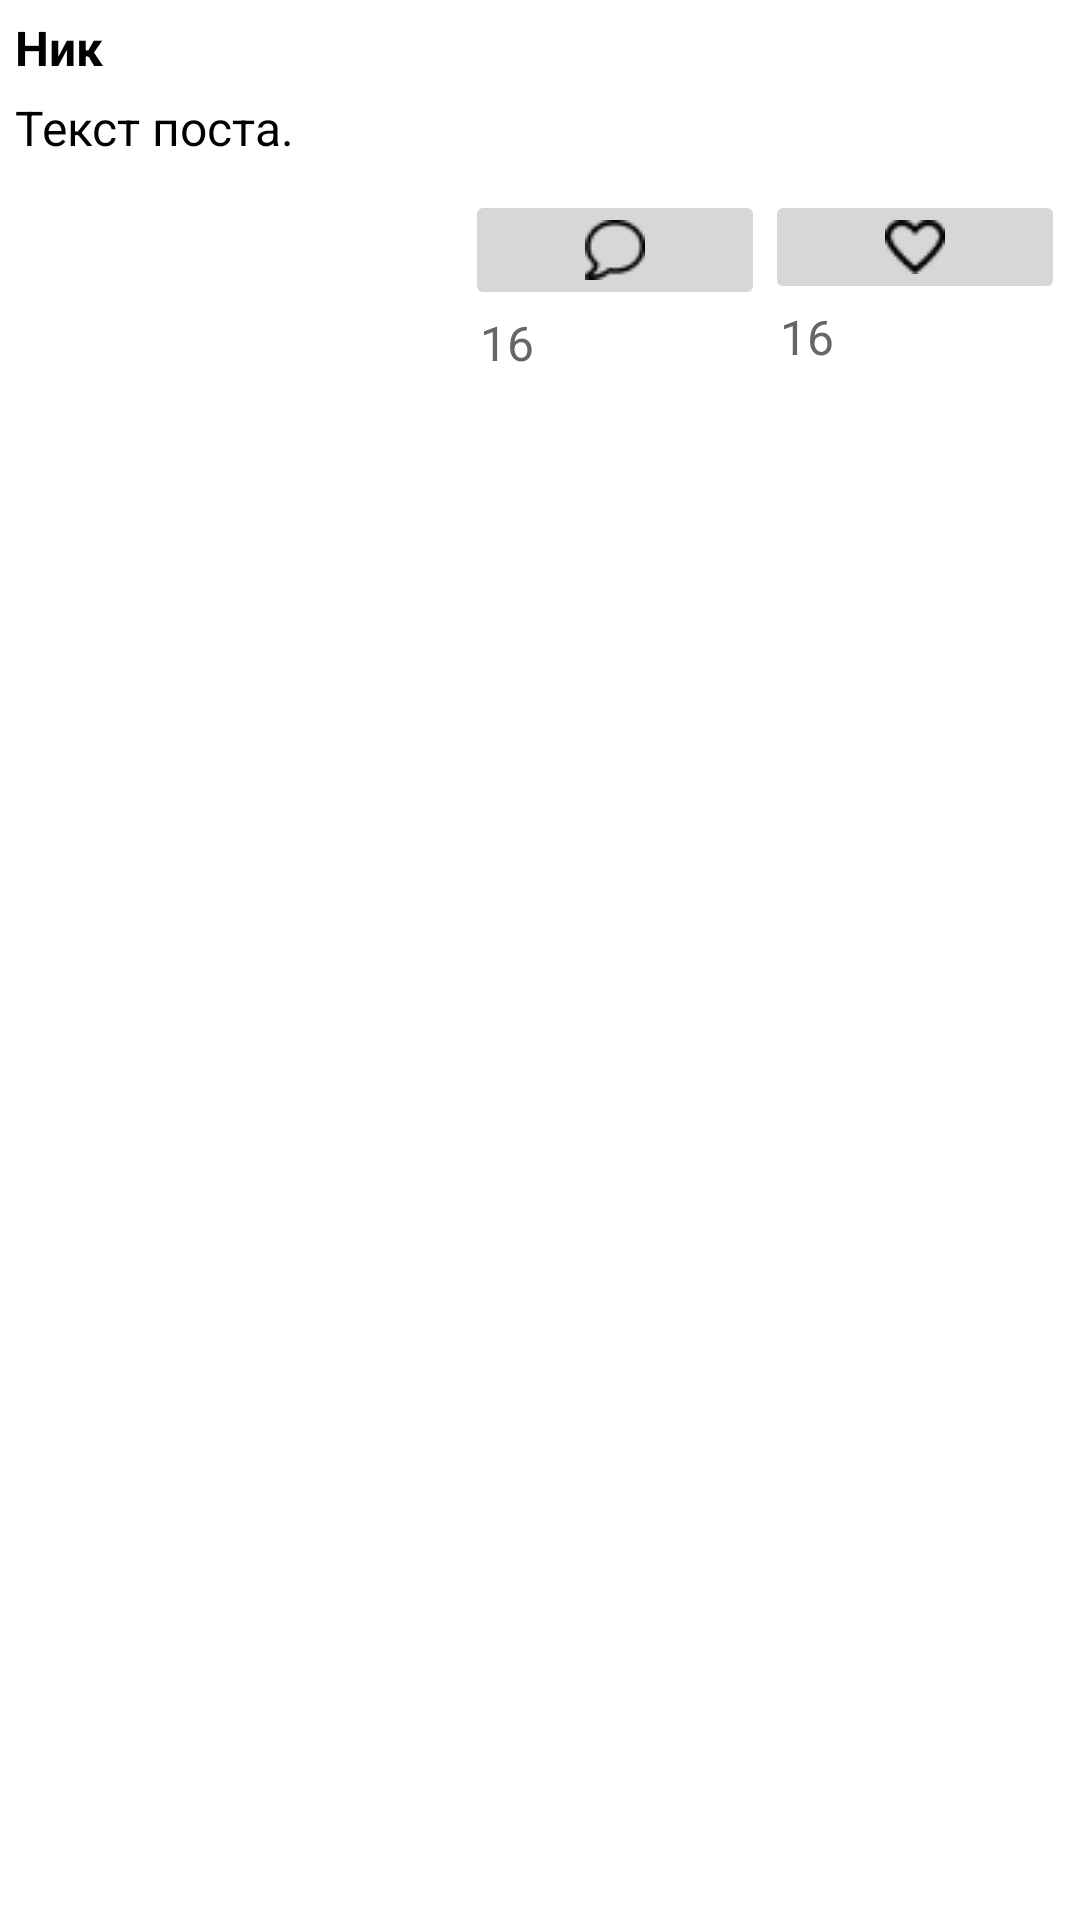

Screen size 1080px×1920px. Icon name, then its center in pixels as [x,y]:
comment: [615,250]
like: [915,247]
